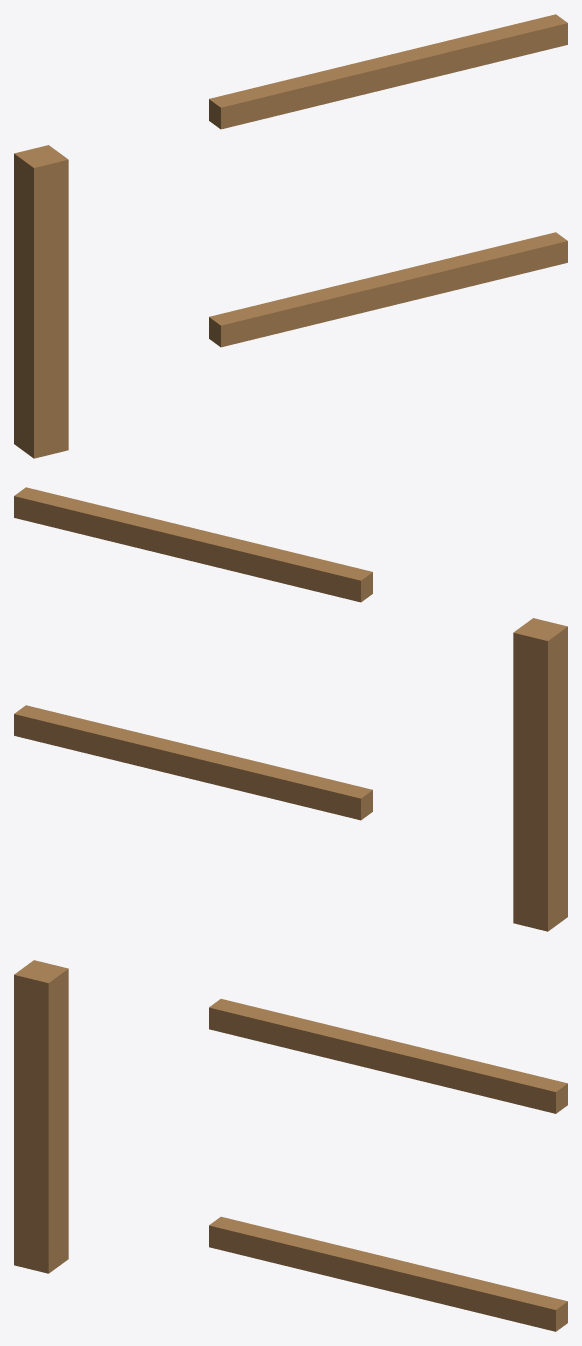
Rendered from fence_post.glb.
3 renders of one model, top to bottom at view 1: azimuth 30°, elevation 25°; view 2: azimuth 150°, elevation 25°; view 3: azimuth 330°, elevation 25°, orthographic.
Parts seen in each view (by area): view 1: Bar0.6; view 2: Bar0.6; view 3: Bar0.6.
Boxes of the visible parts, box(x1,y1,x2,y2) form: Bar0.6: box(14, 14, 567, 458); Bar0.6: box(14, 487, 567, 931); Bar0.6: box(14, 960, 567, 1331).
Size of the model in its own units: 0.775 by 0.415 by 0.05.
